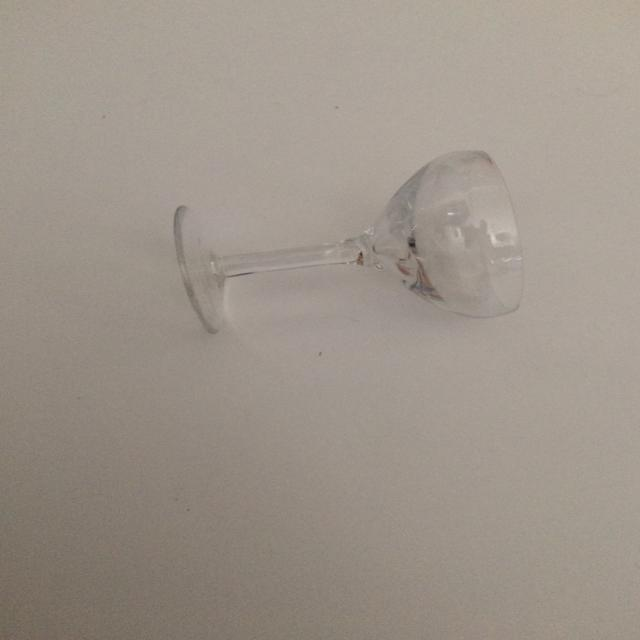glass: (172, 149, 526, 334)
